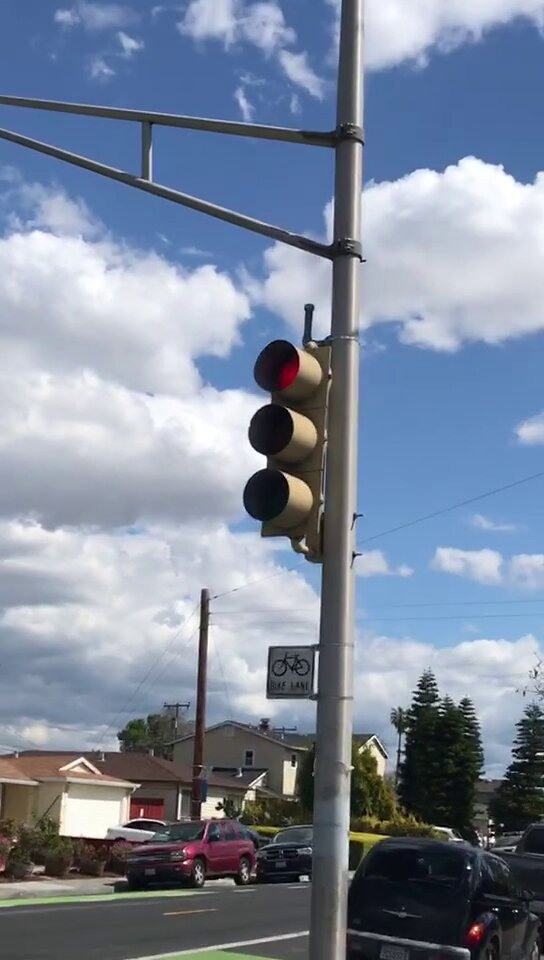red_light: (252, 342, 317, 534)
